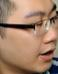without_mask: (1, 1, 58, 74)
